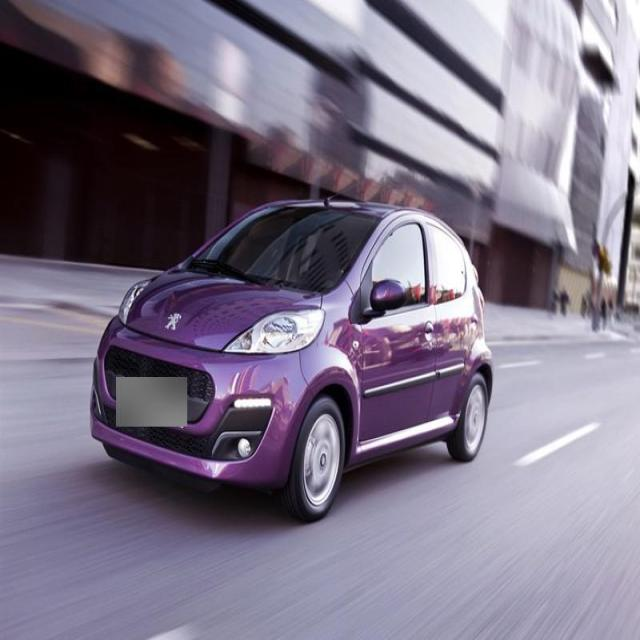back_left_side_light: (471, 263, 485, 309)
front_bumper: (89, 312, 315, 492)
front_glass: (190, 205, 384, 292)
front_left_side_door: (354, 211, 440, 469)
front_left_side_light: (222, 304, 326, 356)
front_left_side_mirror: (364, 278, 406, 322)
front_right_side_light: (116, 277, 158, 326)
wheel: (277, 396, 346, 523), (442, 371, 488, 463)
